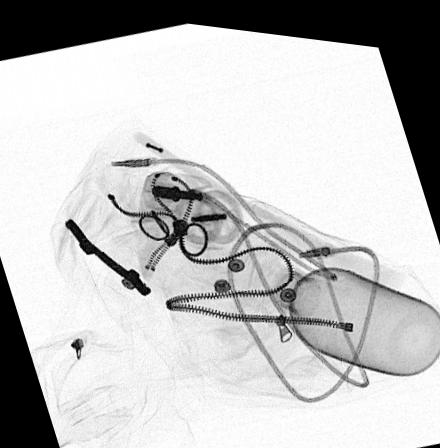Wrench: (62, 213, 152, 291)
